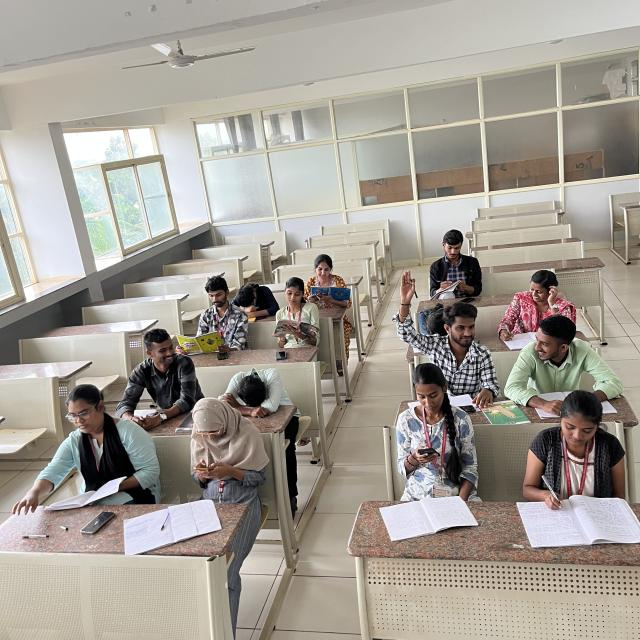Hand Rising: (390, 268, 498, 377)
Reading: (178, 272, 254, 356), (272, 278, 328, 355), (302, 253, 354, 311)
Sleeping: (219, 364, 303, 419), (230, 276, 280, 317)
Using Phone: (386, 362, 480, 500), (171, 391, 265, 502), (122, 322, 202, 431)
Writing: (12, 382, 164, 546), (523, 390, 629, 550), (497, 268, 565, 344), (425, 228, 491, 304)
